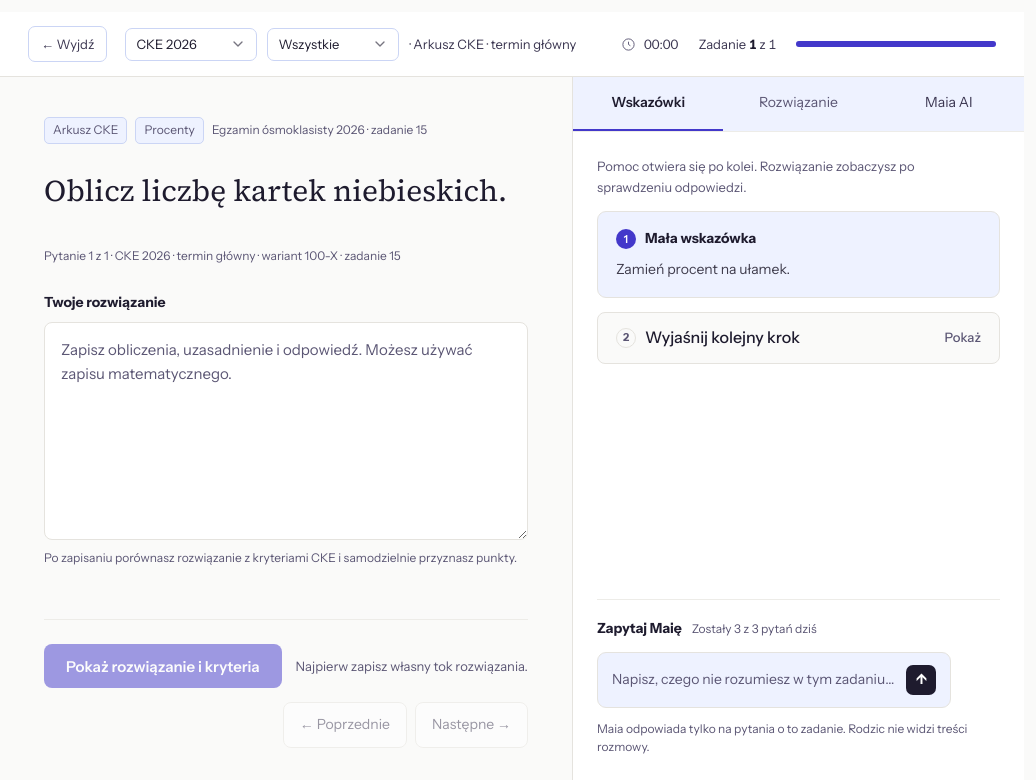
Scenario: StudentPractice focus mode › reveals the CKE rubric before saving a student's self-assessed score
Type "x + 1,5x + x - 10 + 37 = 160, więc 1,5x = 57" into the text box labelled "Twoje rozwiązanie" at (286, 431), box [44,322,528,540]
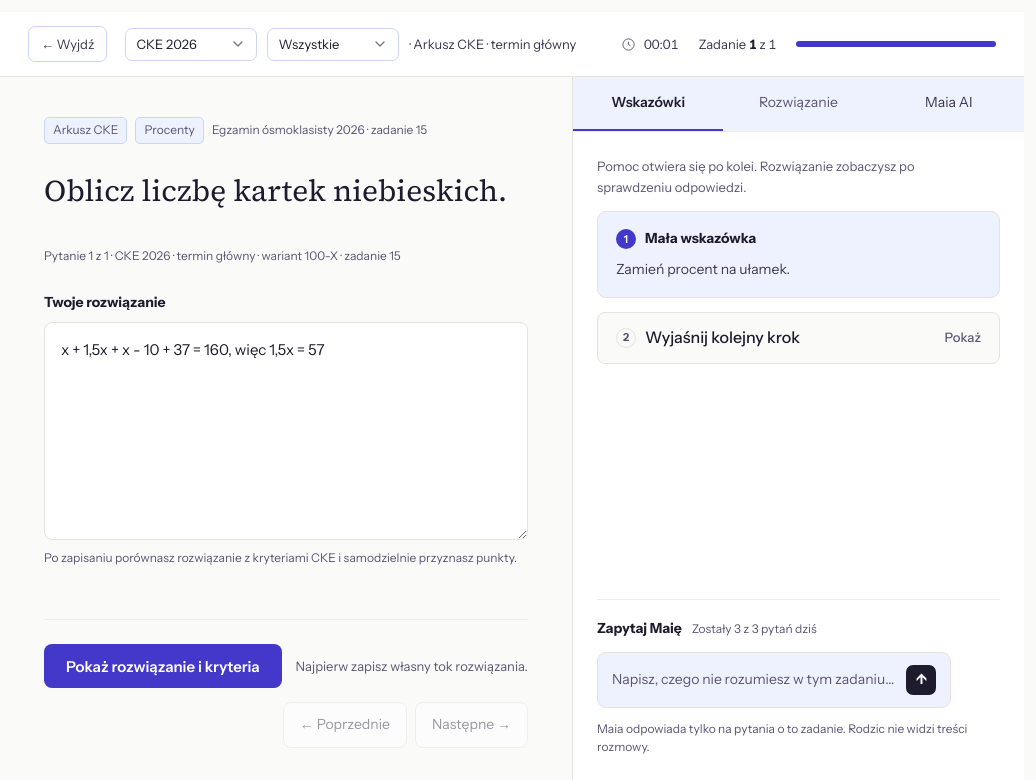
Click the button "Pokaż rozwiązanie i kryteria" at (163, 666), box [44,644,282,688]
(page scrolled)
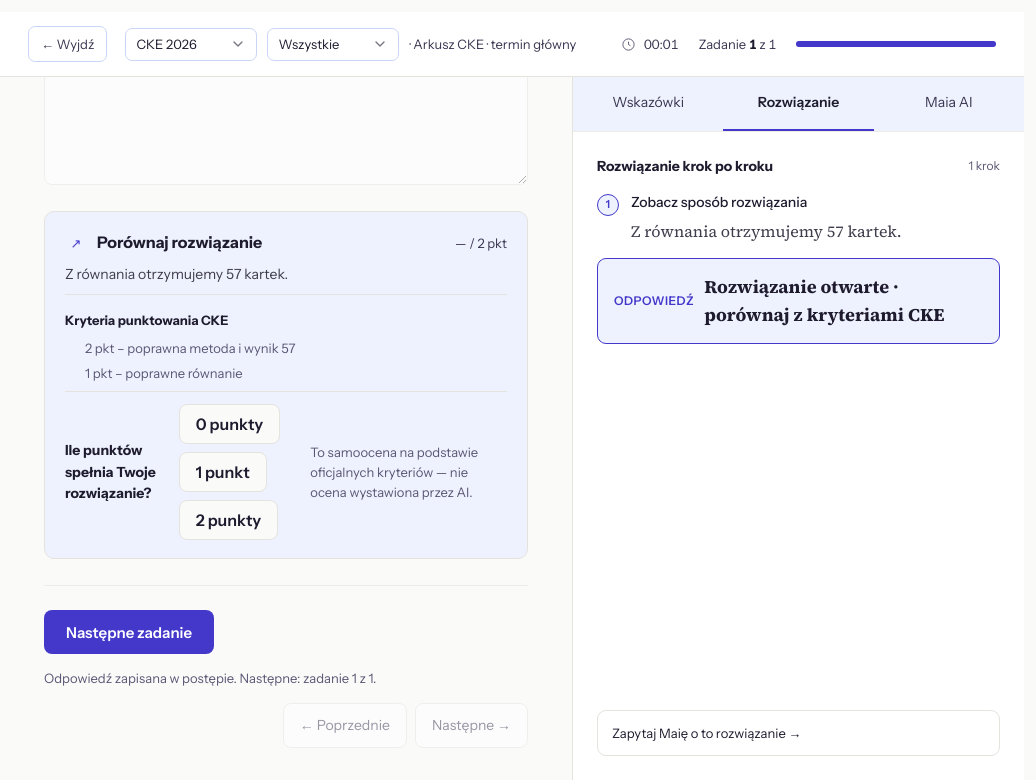
Check: the text "Porównaj rozwiązanie" is shown, box [97,230,262,255]
Check: the text "Kryteria punktowania CKE" is shown, box [65,312,228,328]
Click the button "2 punkty" at (228, 520), box [179,500,278,540]
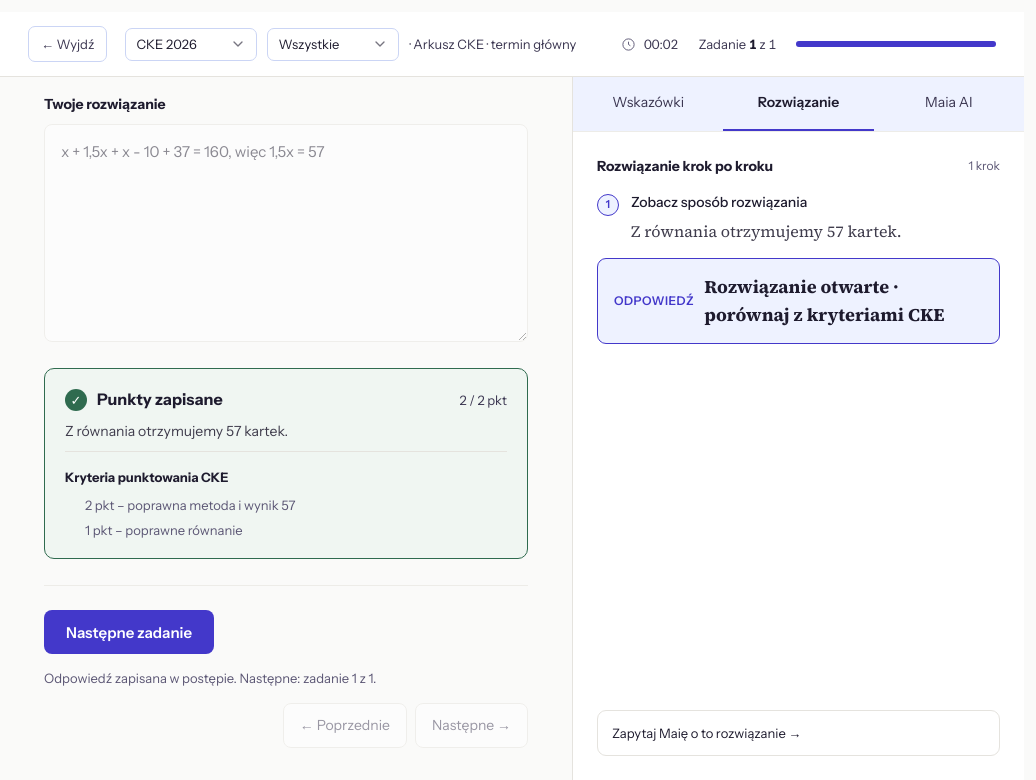
Check: the text "Punkty zapisane" is shown, box [97,387,223,412]
Check: the text "2 / 2 pkt" is shown, box [460,390,507,410]
